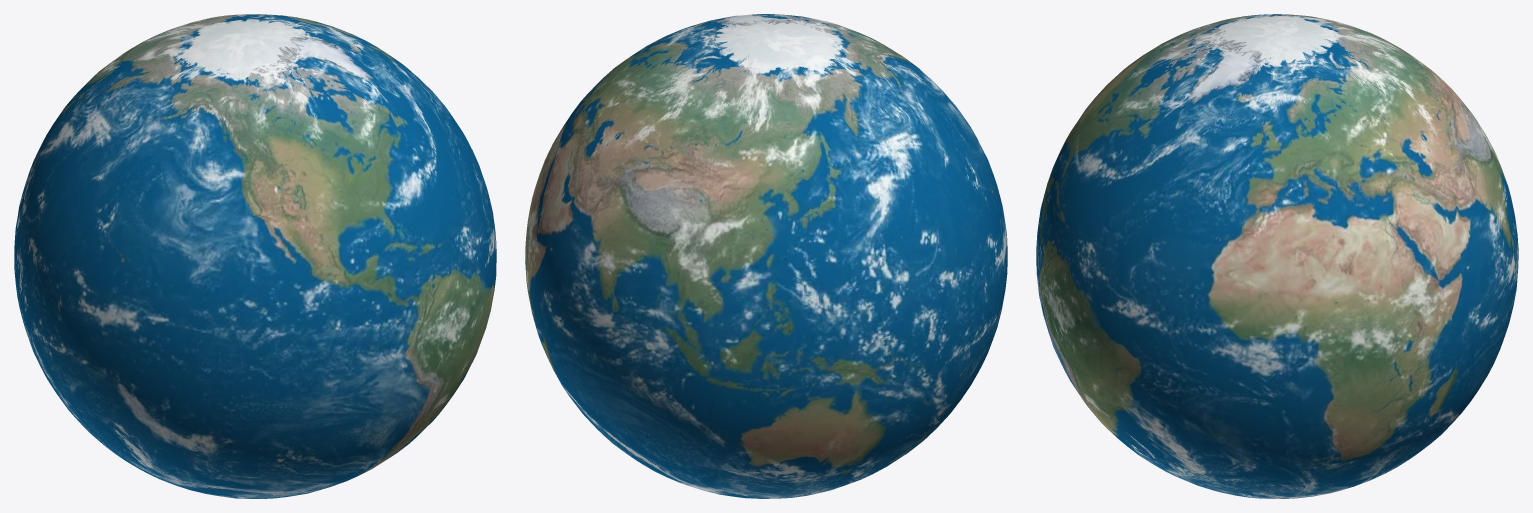
Rendered from earth-transformed.glb.
The picture shows the model from 3 angles, left to right: view 1: azimuth 30°, elevation 25°; view 2: azimuth 150°, elevation 25°; view 3: azimuth 270°, elevation 25°; orthographic projection.
Visible parts, largest first — view 1: Object_4; view 2: Object_4; view 3: Object_4.
Part boxes in pixels (x1,y1,x2,y2): Object_4: (14, 14, 496, 498); Object_4: (525, 14, 1007, 498); Object_4: (1036, 14, 1518, 498).
Bounding box in the file's own units: 2.23 × 2.25 × 2.23.
1 material, 1 textured.
